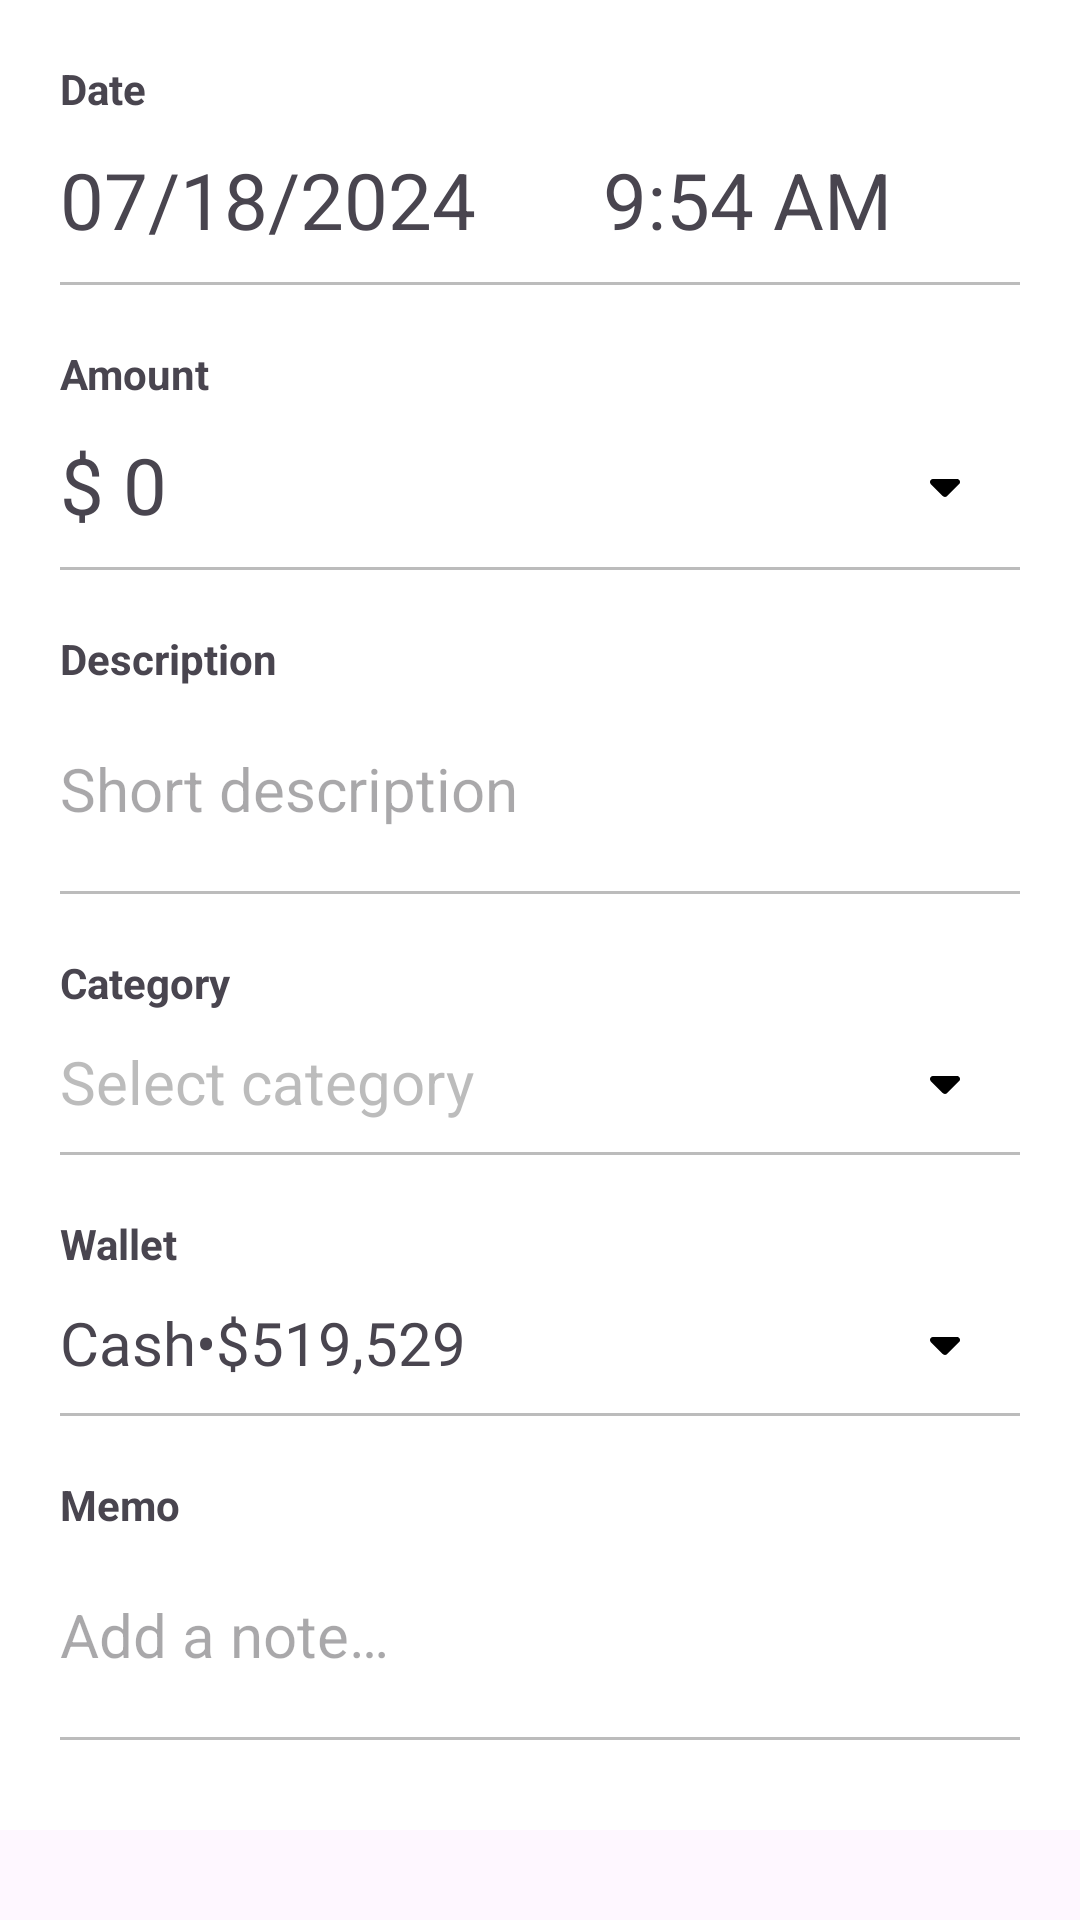

Where to tap for icons on this 1080 x 1920 app screen, as point (x, y):
caret down: point (945, 488), point (945, 1085), point (945, 1346)
